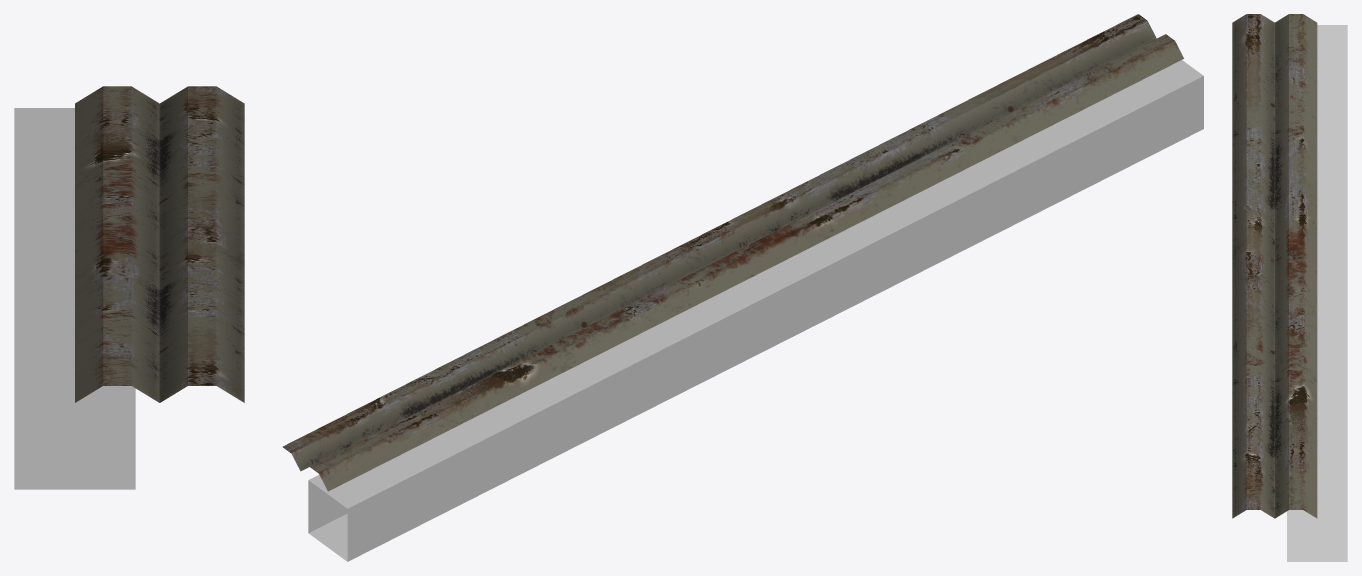
File: Metal_Roof_Front.fbx
3 views of the same model, side by side, from view 1: azimuth 90°, elevation 25°; view 2: azimuth 210°, elevation 25°; view 3: azimuth 270°, elevation 25° (orthographic). The views are drawn at different scales.
Parts seen in each view (by area): view 1: Metal_Roof_Front; view 2: Metal_Roof_Front; view 3: Metal_Roof_Front.
Boxes of the visible parts, left/top/right/bottom form: Metal_Roof_Front: left=14, top=86, right=244, bottom=489; Metal_Roof_Front: left=282, top=14, right=1203, bottom=561; Metal_Roof_Front: left=1232, top=14, right=1347, bottom=561.
Size of the model in its own units: 4 by 1.3 by 0.6031.
